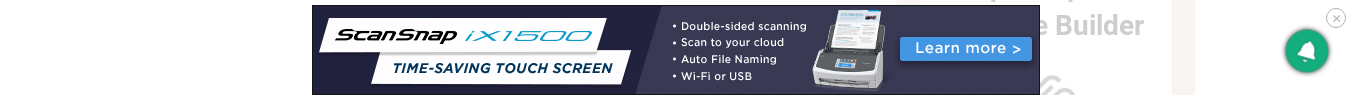fake_button: (896, 30, 1045, 78)
